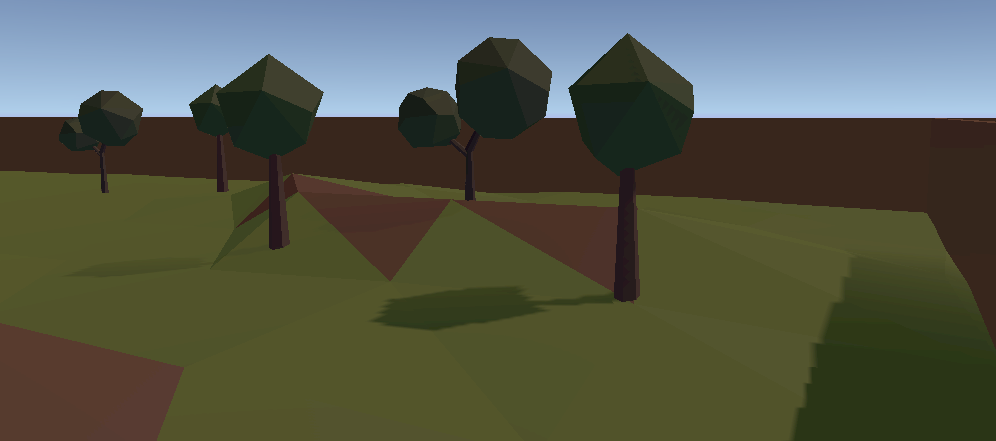tree: (566, 29, 695, 298), (395, 36, 550, 198), (216, 52, 325, 245), (50, 87, 146, 183), (185, 84, 241, 189)
